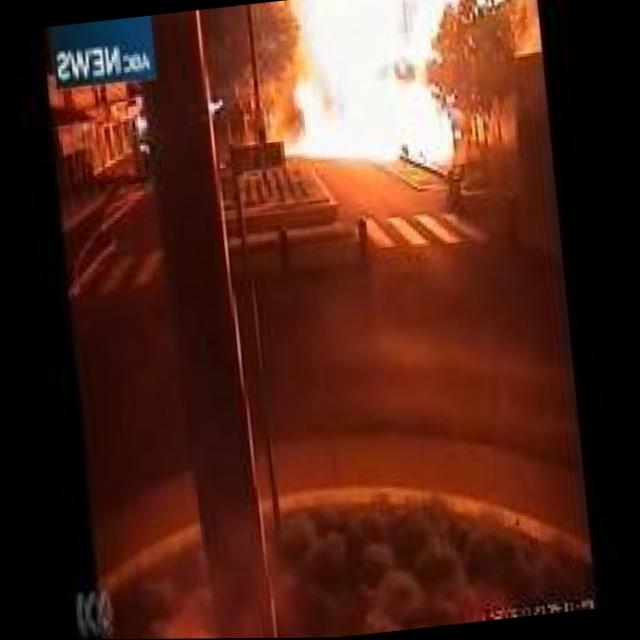fire: (260, 0, 487, 178)
